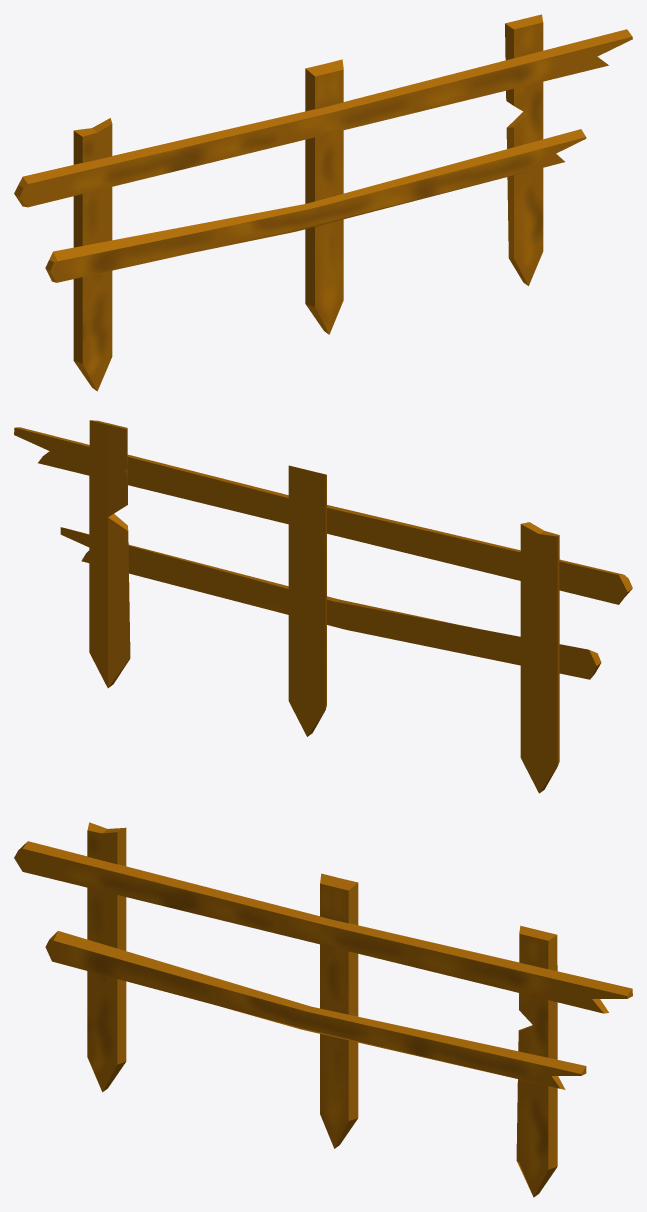
The model's file is fence.fbx.
3 renders of one model, top to bottom at view 1: azimuth 30°, elevation 25°; view 2: azimuth 150°, elevation 25°; view 3: azimuth 330°, elevation 25°, orthographic.
Visible parts, largest first — view 1: Cube; view 2: Cube; view 3: Cube.
Boxes of the visible parts, box(x1,y1,x2,y2) form: Cube: box(14, 14, 632, 391); Cube: box(14, 420, 632, 793); Cube: box(14, 822, 632, 1197).
Bounding box in the file's own units: 557 × 232 × 16.66.
Materials: 1 (1 with a texture image).
